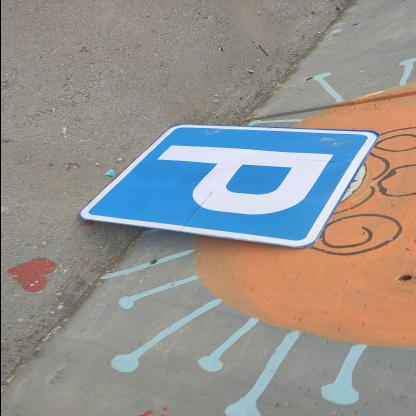Parking-Sign: (78, 125, 379, 249)
